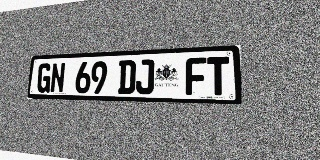6: (75, 61, 92, 93)
9: (90, 61, 108, 94)
D: (118, 60, 136, 94)
F: (185, 57, 206, 95)
G: (36, 63, 52, 93)
J: (135, 59, 154, 94)
N: (50, 62, 66, 93)
T: (207, 56, 229, 96)
